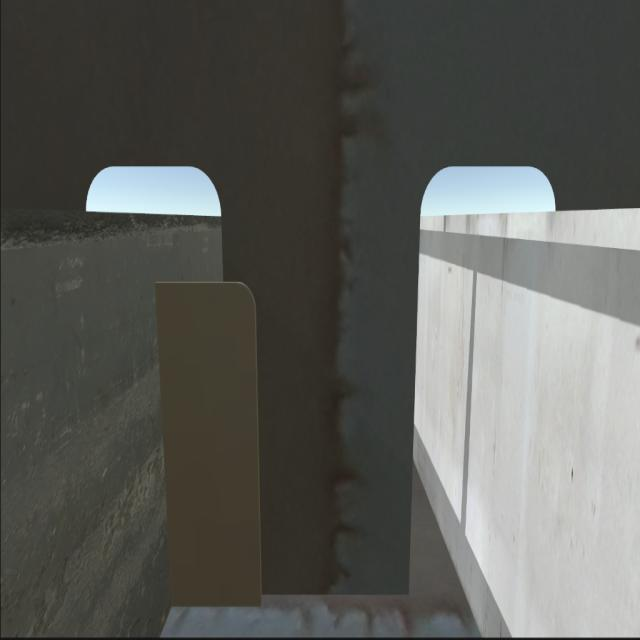fillet_yong_jeop_jang: (170, 580, 414, 609)
longi_yong_jeop_jang: (149, 274, 181, 604)
plate_CP05: (156, 275, 262, 609)
